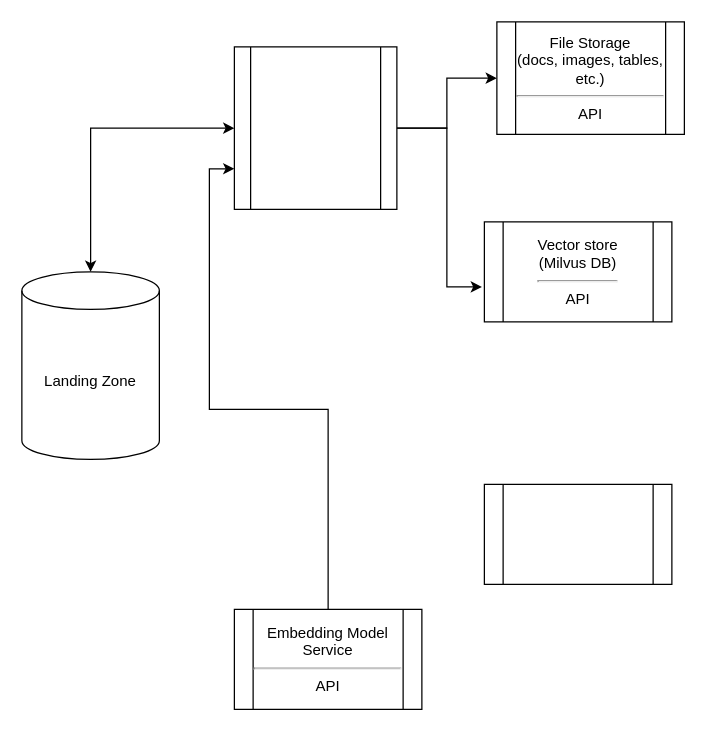
This 706x731 diagram has some shape labels left out. The centre of each missing label's shape, as x and y in pixels:
"LLM Service API" goes at [577,533].
"Preprocessing Backend" goes at [315,127].
